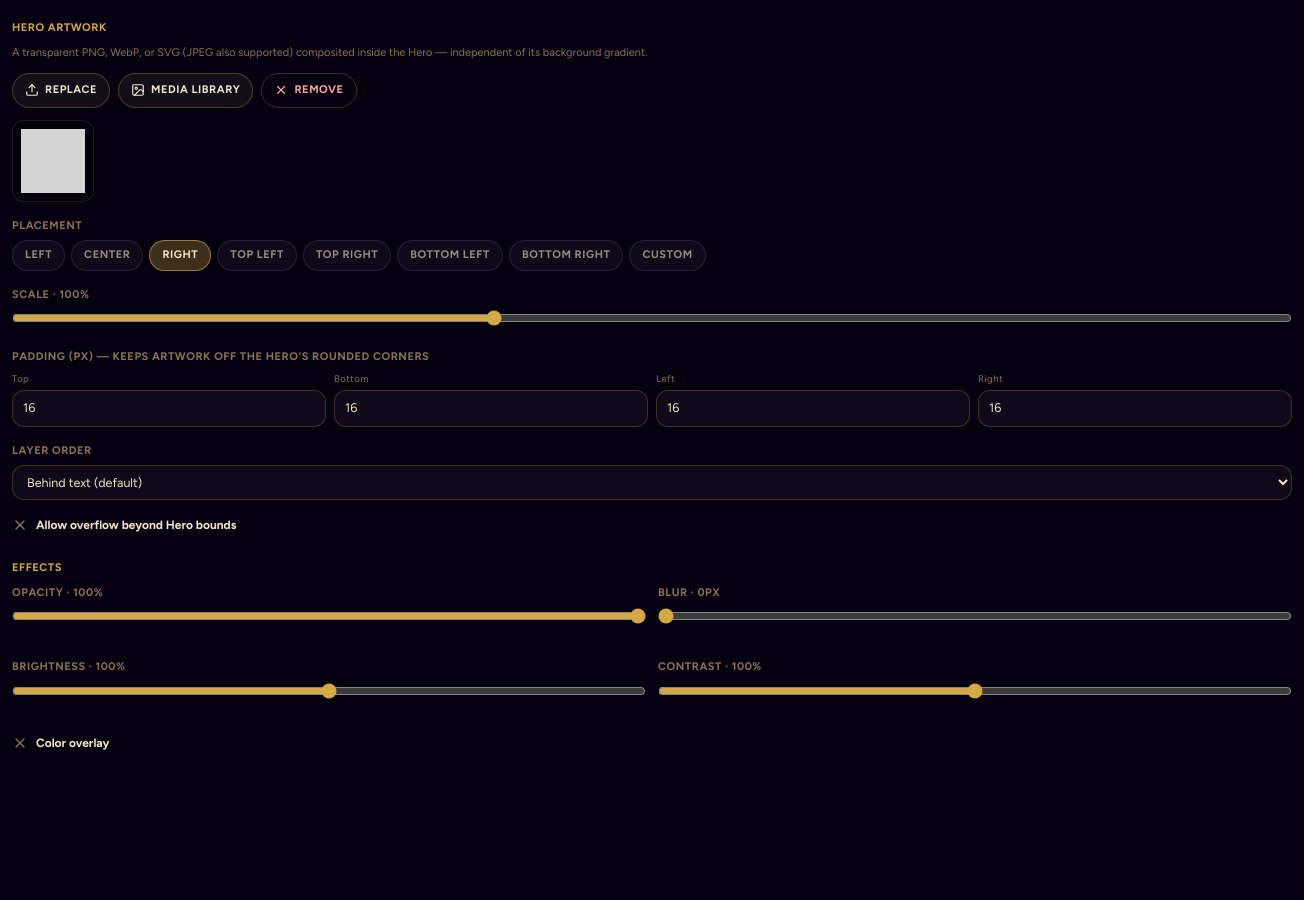
Scenario: scale slider updates the displayed percentage
This screenshot has width=1304, height=900.
Set the slider with test id "hero-artwork-scale" to "150" at (889, 318), box 12,310 -> 1292,326
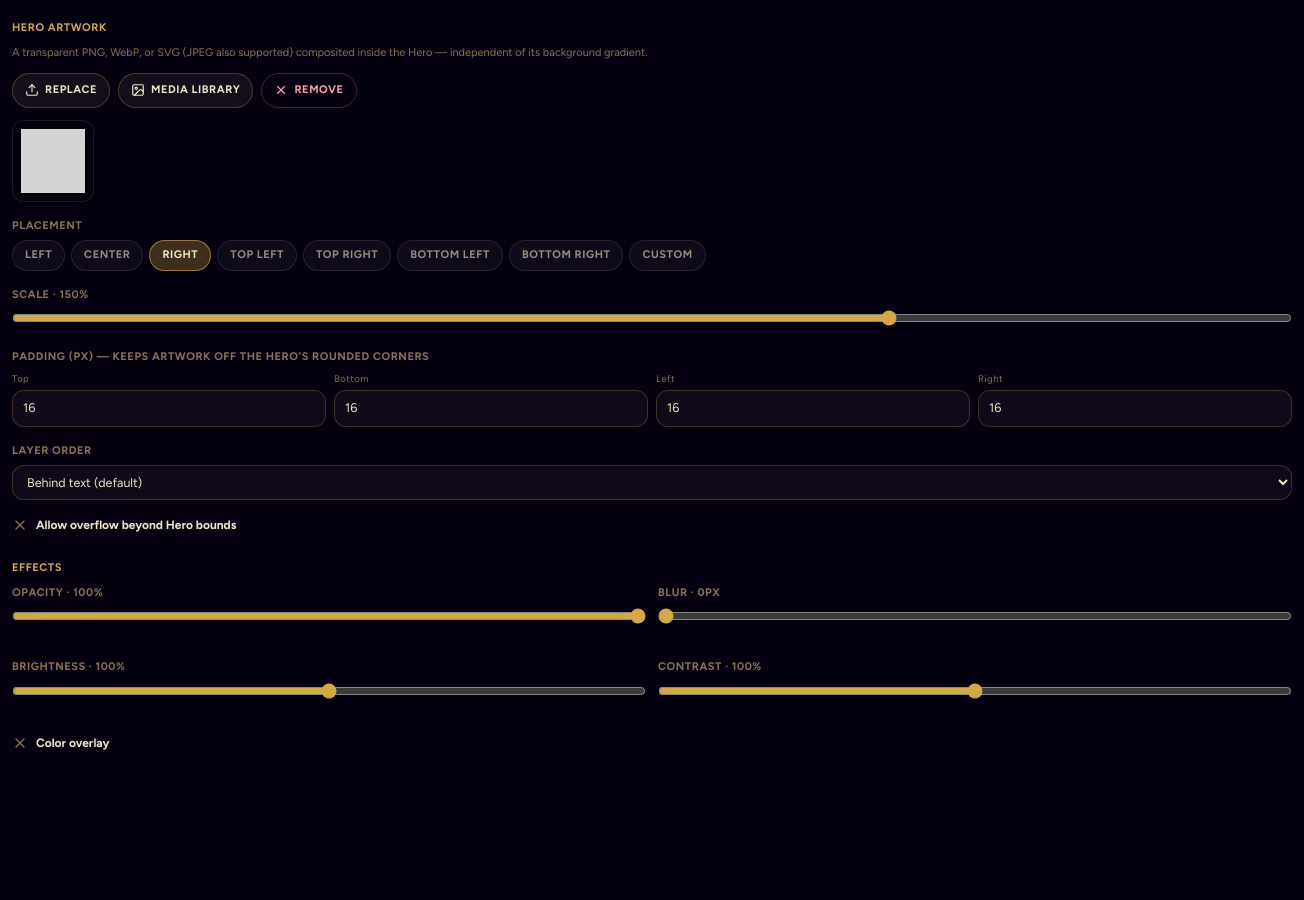
Result: the text "Scale · 150%" is shown at 12,288 -> 89,300
